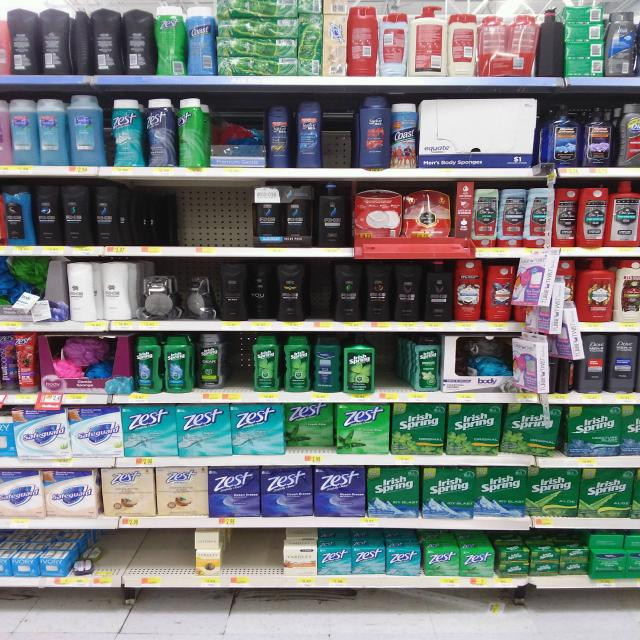unorganised: (349, 4, 477, 78), (66, 262, 135, 322), (6, 8, 68, 74), (93, 6, 151, 74), (499, 404, 566, 455), (563, 5, 608, 77), (283, 403, 337, 453), (175, 96, 209, 168), (536, 8, 567, 77), (193, 333, 225, 391), (91, 182, 120, 245), (245, 263, 274, 321), (270, 101, 293, 169), (552, 186, 577, 247), (191, 534, 227, 574), (71, 6, 91, 76), (560, 360, 578, 395)
